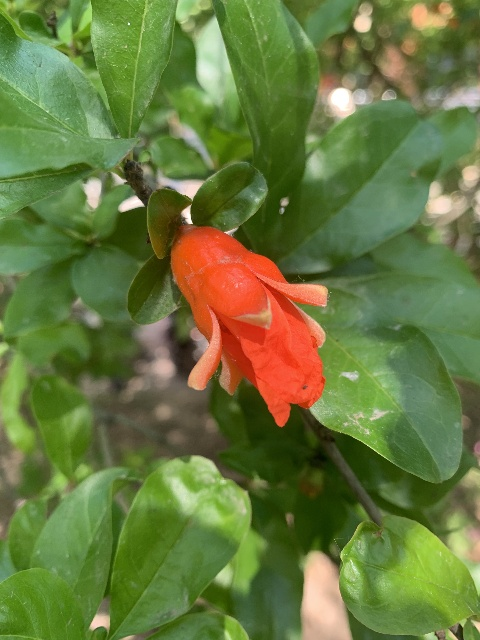flower: (167, 222, 330, 425)
